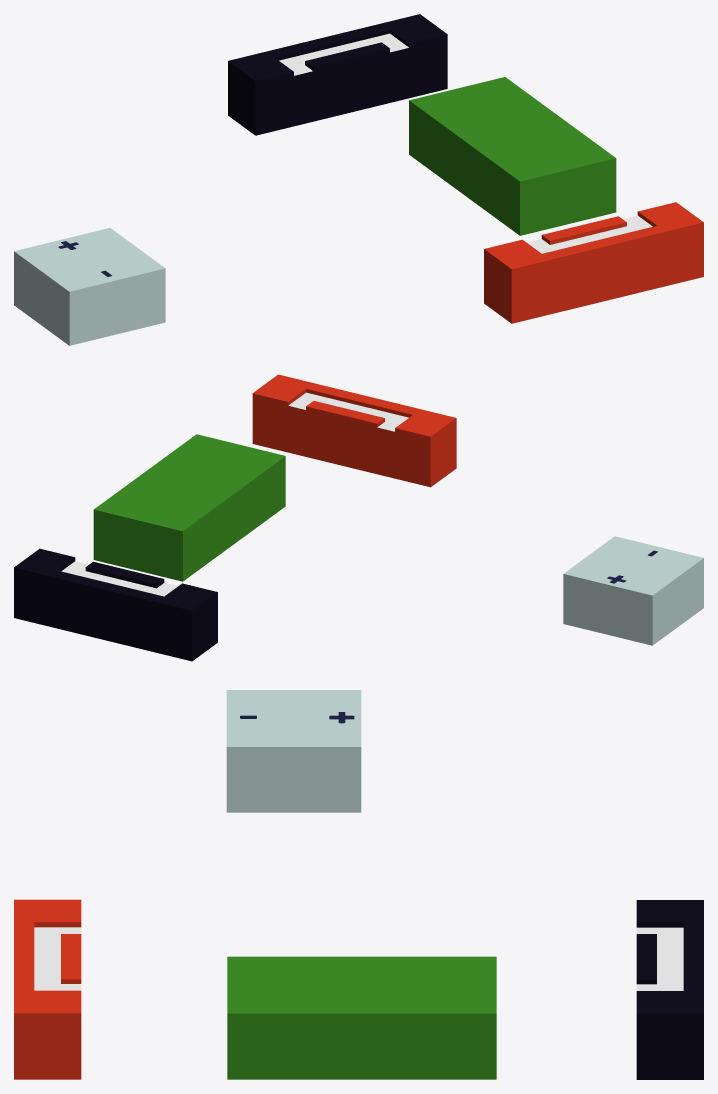
File: model-1765129184623-animasyon.glb
3 renders of one model, top to bottom at view 1: azimuth 30°, elevation 25°; view 2: azimuth 150°, elevation 25°; view 3: azimuth 270°, elevation 25°, orthographic. The views are drawn at different scales.
Parts seen in each view (by area): view 1: Pil.001, Seri--, Seri++, Led.004; view 2: Pil.001, Seri++, Seri--, Led.004; view 3: Pil.001, Led.004, Seri++, Seri--.
Boxes of the visible parts, x1,y1,x2,y2 form: Pil.001: [409, 77, 616, 235]; Seri--: [228, 14, 447, 135]; Seri++: [484, 202, 703, 323]; Led.004: [14, 228, 165, 345]; Pil.001: [93, 434, 285, 581]; Seri++: [252, 374, 456, 487]; Seri--: [14, 548, 217, 661]; Led.004: [563, 536, 703, 645]; Pil.001: [227, 956, 496, 1079]; Led.004: [226, 690, 361, 812]; Seri++: [14, 899, 81, 1079]; Seri--: [636, 900, 703, 1079].
Size of the model in its own units: 1.42 by 0.1356 by 1.28.
